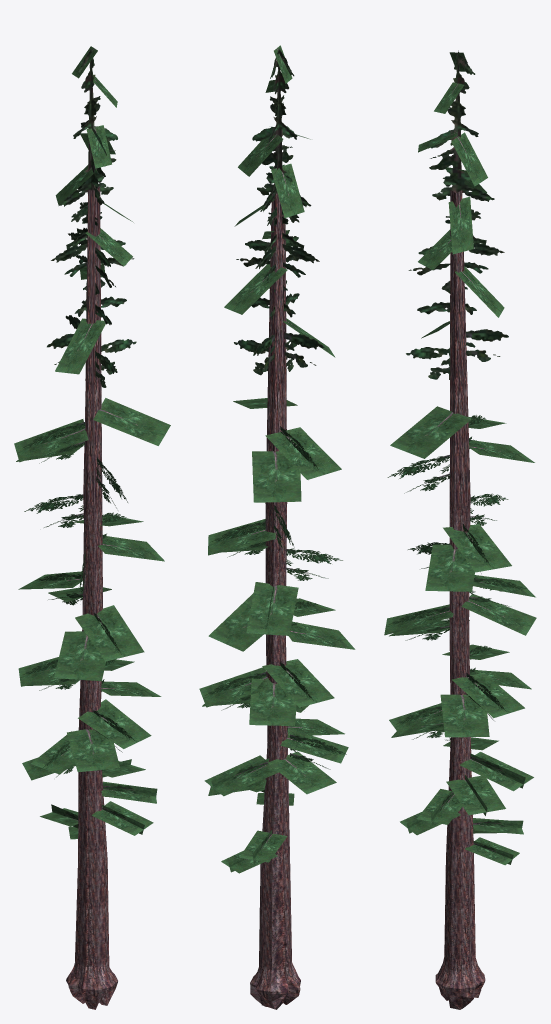
Rendered from frst_conf_redwood_giant_l0.fbx.
The picture shows the model from 3 angles, left to right: view 1: azimuth 30°, elevation 25°; view 2: azimuth 150°, elevation 25°; view 3: azimuth 270°, elevation 25°; orthographic projection.
Visible parts, largest first — view 1: mesh_node; view 2: mesh_node; view 3: mesh_node.
Boxes of the visible parts, x1=… form: mesh_node: x1=14, y1=46, x2=170, y2=1009; mesh_node: x1=199, y1=45, x2=355, y2=1009; mesh_node: x1=384, y1=50, x2=536, y2=1009.
Size of the model in its own units: 26.94 by 191 by 27.25.
